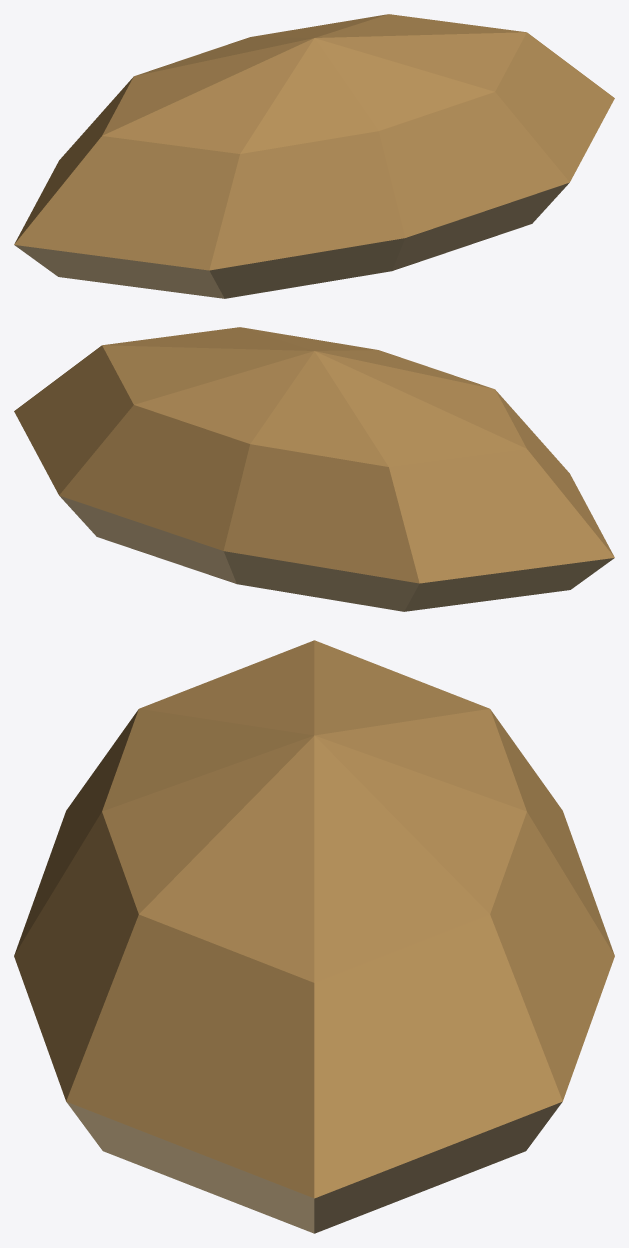
Rendered from Bread1.fbx.
3 renders of one model, top to bottom at view 1: azimuth 30°, elevation 25°; view 2: azimuth 150°, elevation 25°; view 3: azimuth 270°, elevation 25°, orthographic. The views are drawn at different scales.
Parts seen in each view (by area): view 1: Cube; view 2: Cube; view 3: Cube.
Part boxes in pixels (x1,y1,x2,y2): Cube: [14, 14, 614, 298]; Cube: [14, 327, 614, 611]; Cube: [14, 640, 614, 1233].
Size of the model in its own units: 0.64 by 0.186 by 0.3353.
